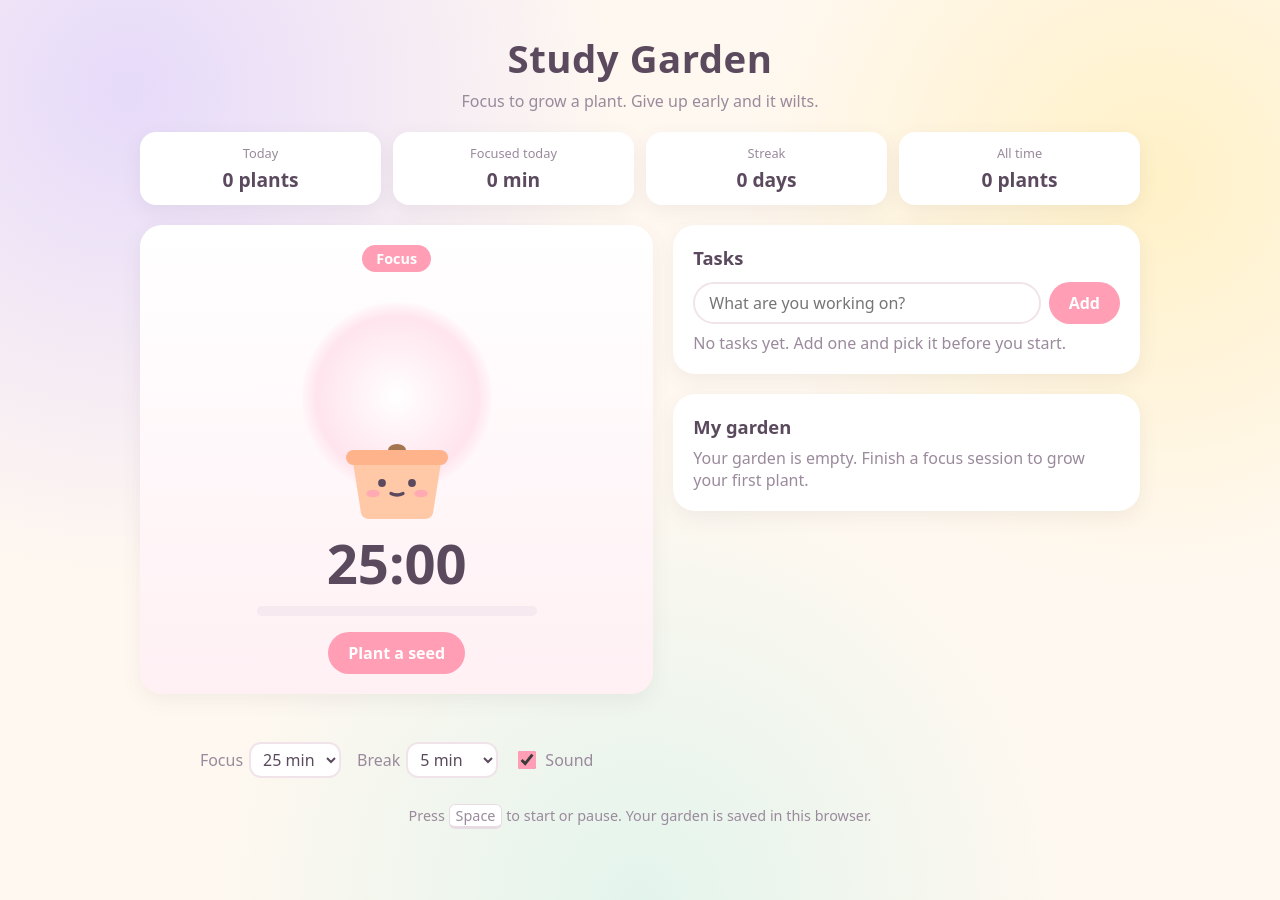
Scenario: App › wilts the plant when giving up and adds nothing to the garden
This screenshot has width=1280, height=900.
Click the button "Plant a seed": (397, 653) [328,632,465,674]
Wait 60000 ms
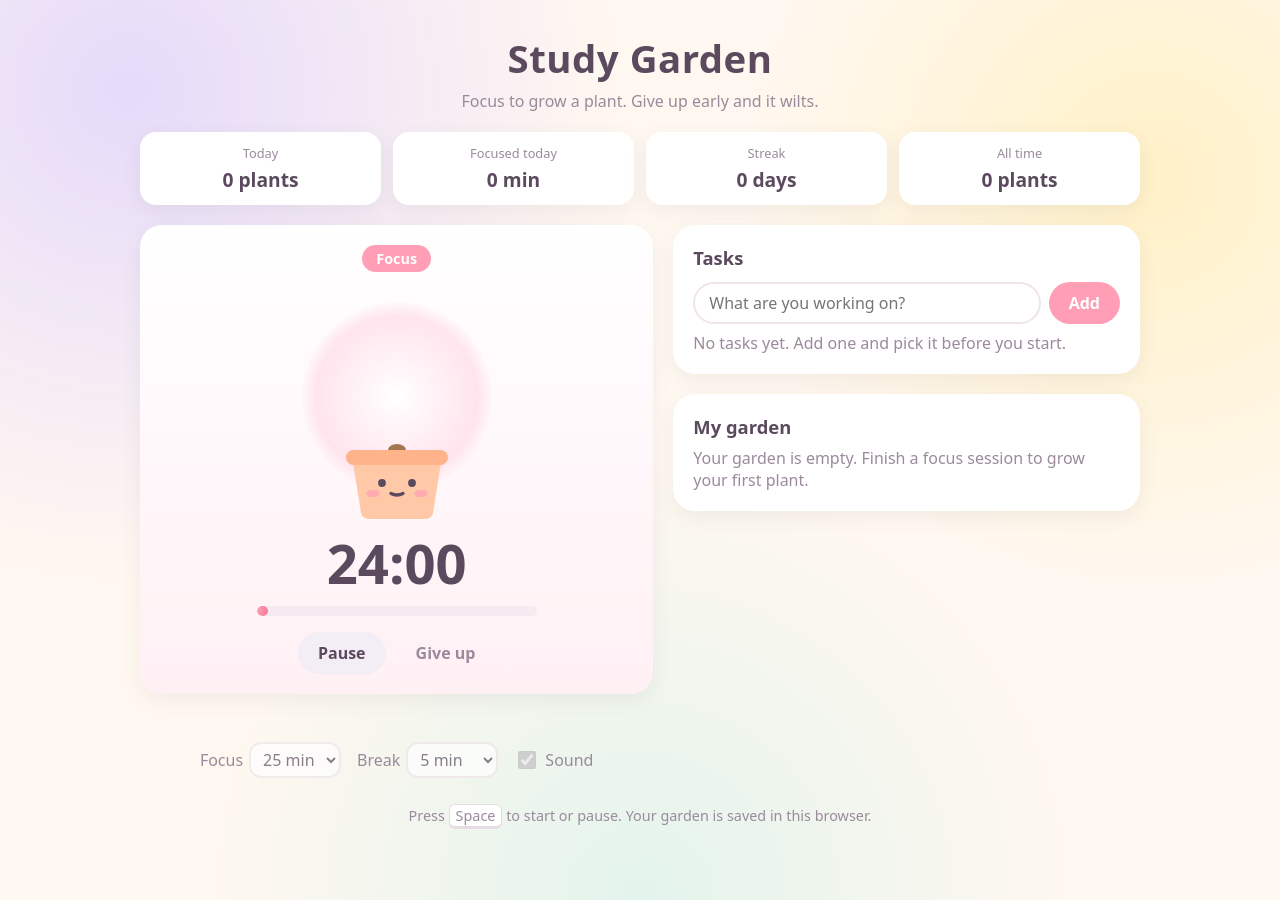
Click the button "Give up": (446, 653) [396,632,495,674]
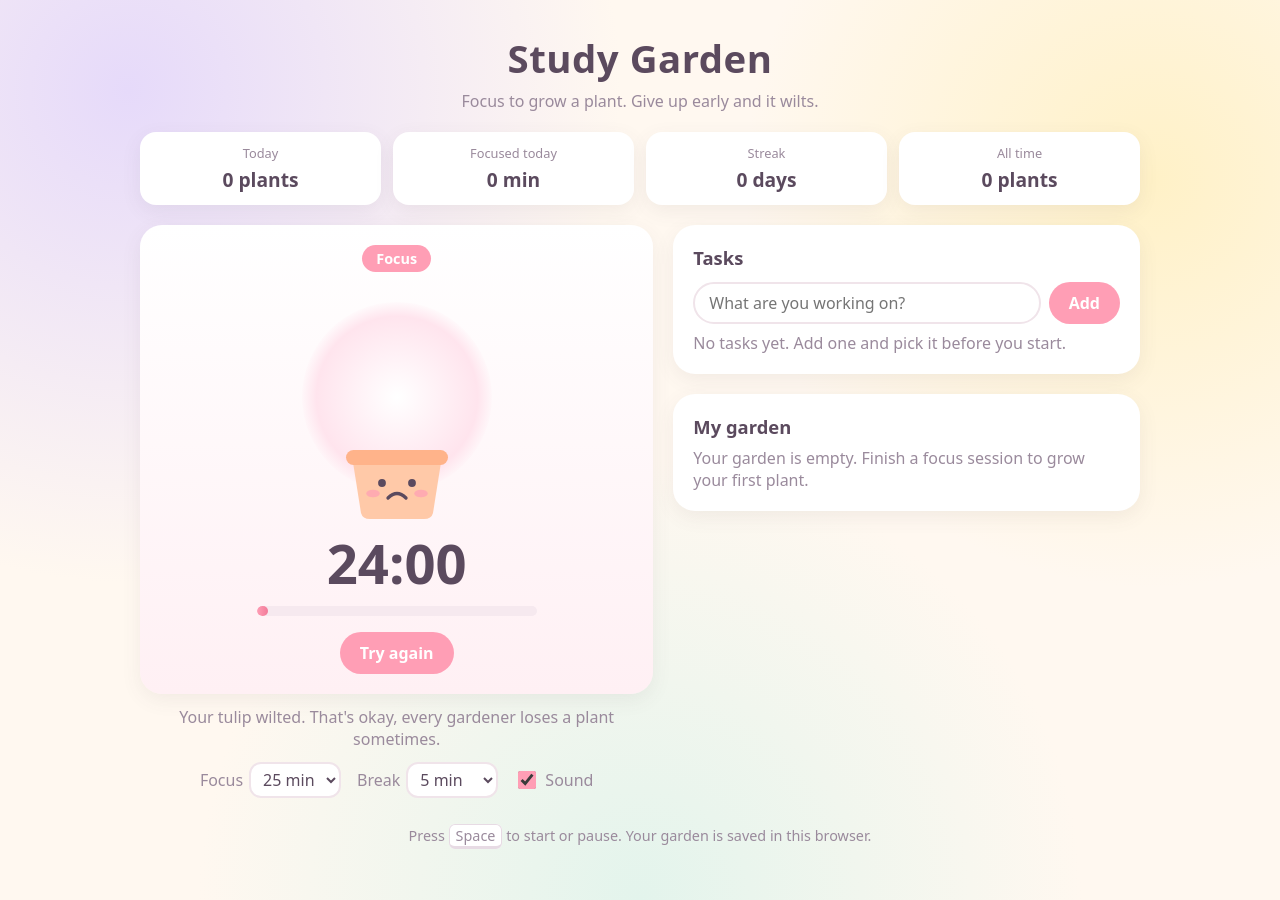
Expected: the text "Your garden is empty" is shown, [693,447,1085,491]
Result: the picture named "wilted tulip" is shown at [307,312,487,522]
Result: the message shows "wilted" at [179,706,614,750]
Click the button "Try again": (397, 653) [340,632,454,674]
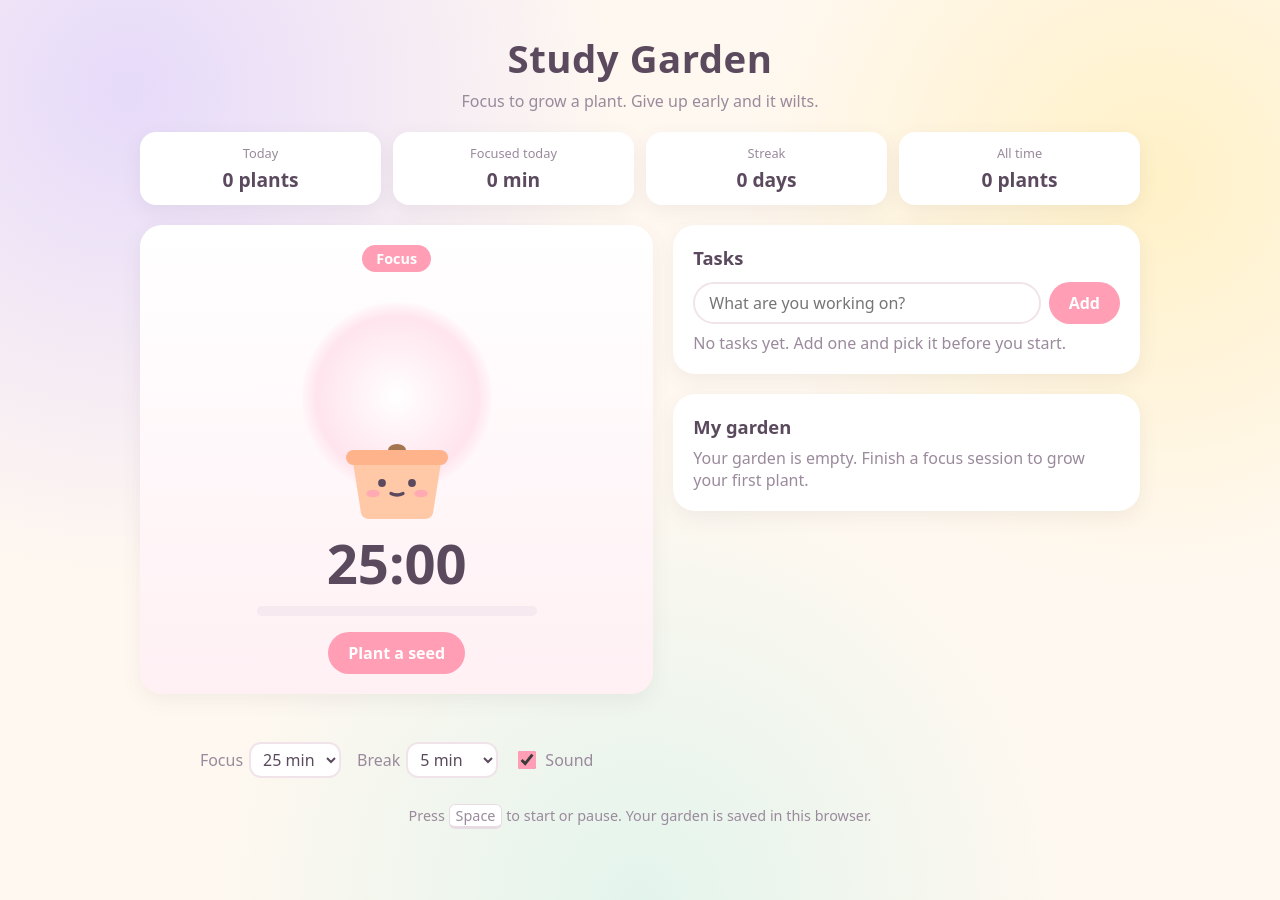
Result: the text "25:00" is shown at [327,526,467,600]
